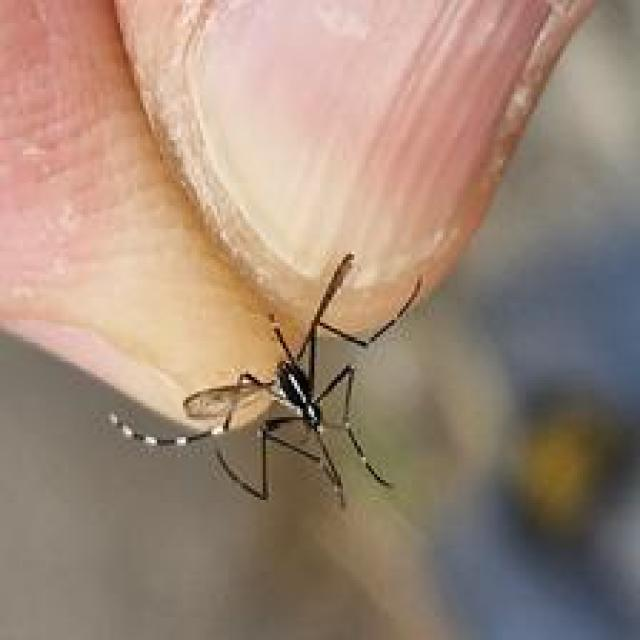Aedes albopictus: (107, 250, 424, 510)
